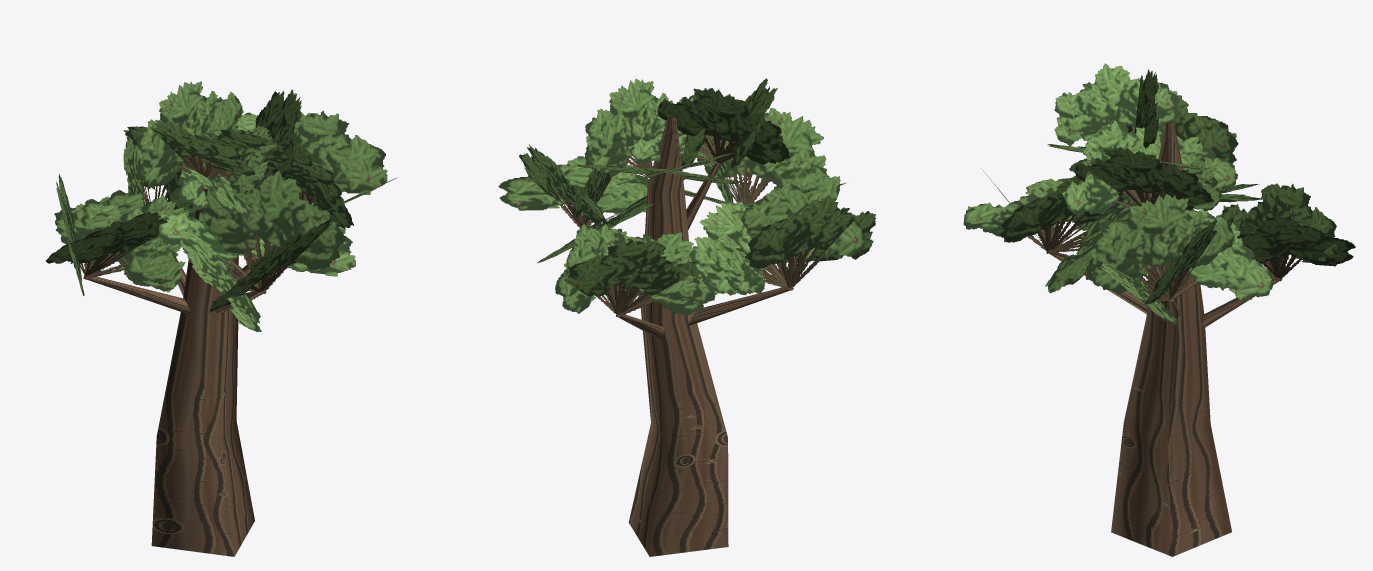
Rendered from lowland-orchard-mobile.glb.
3 renders of one model, left to right at view 1: azimuth 30°, elevation 25°; view 2: azimuth 150°, elevation 25°; view 3: azimuth 270°, elevation 25°, orthographic. The views are drawn at different scales.
Visible parts, largest first — view 1: Lowland orchard mobile v3 runtime; view 2: Lowland orchard mobile v3 runtime; view 3: Lowland orchard mobile v3 runtime.
Boxes of the visible parts, x1,y1,x2,y2 form: Lowland orchard mobile v3 runtime: [46, 81, 397, 556]; Lowland orchard mobile v3 runtime: [498, 78, 875, 556]; Lowland orchard mobile v3 runtime: [963, 63, 1355, 556].
Bounding box in the file's own units: 5.13 × 6.19 × 4.77.
1 material, 1 textured.
